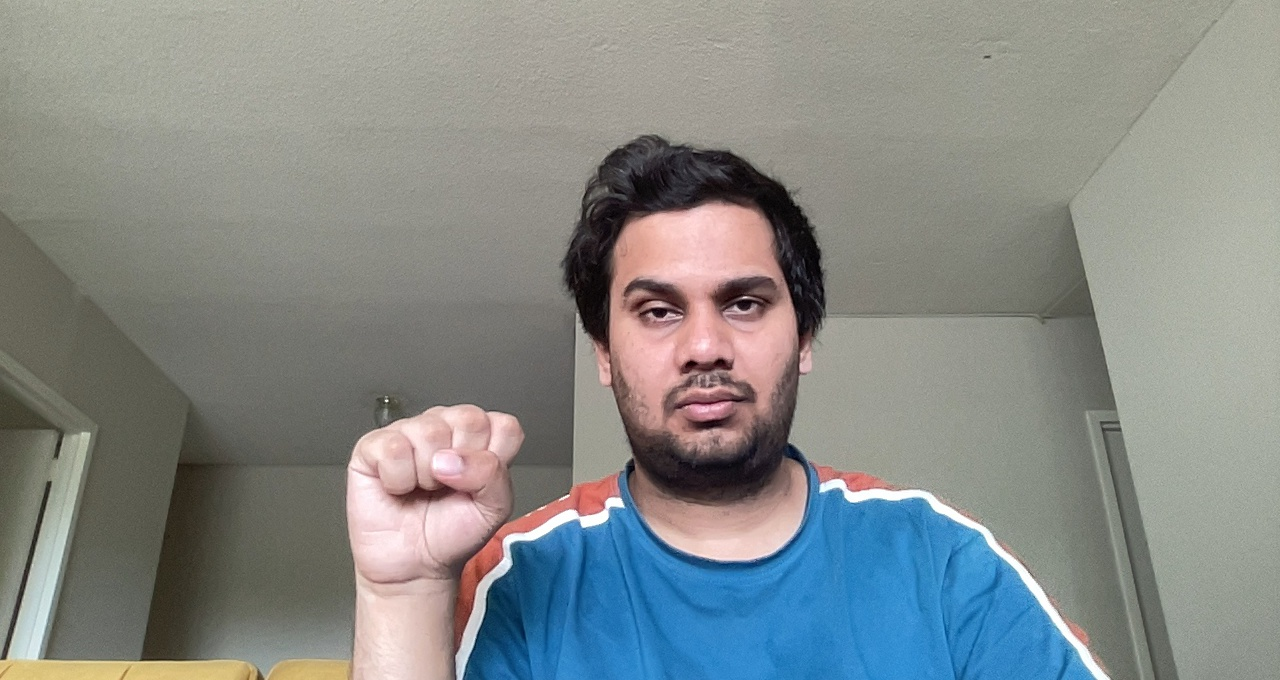closedfist: (340, 396, 531, 598)
